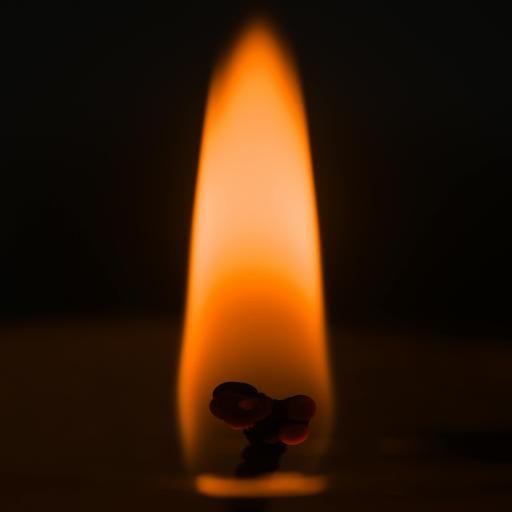fire: (148, 0, 384, 511)
